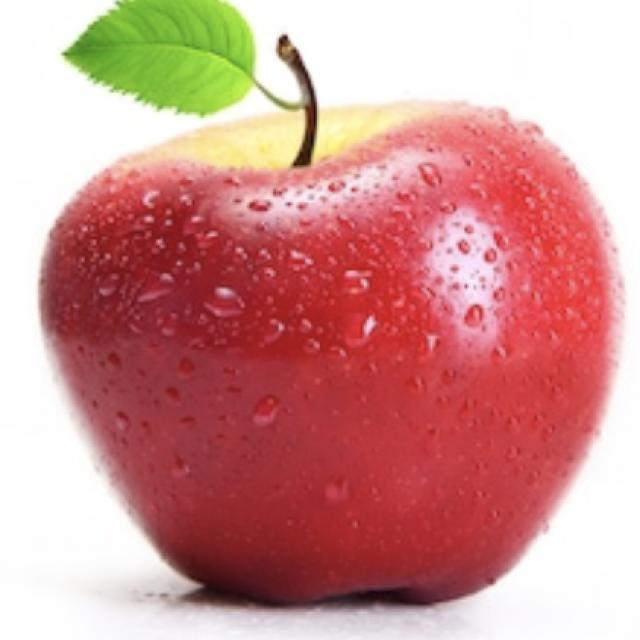Fresh Apple: (64, 105, 614, 630)
